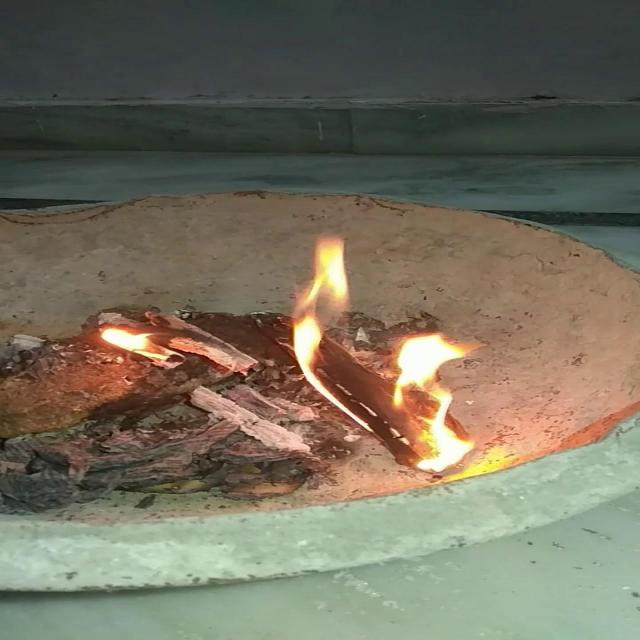fire: (282, 232, 492, 482), (88, 292, 205, 373)
